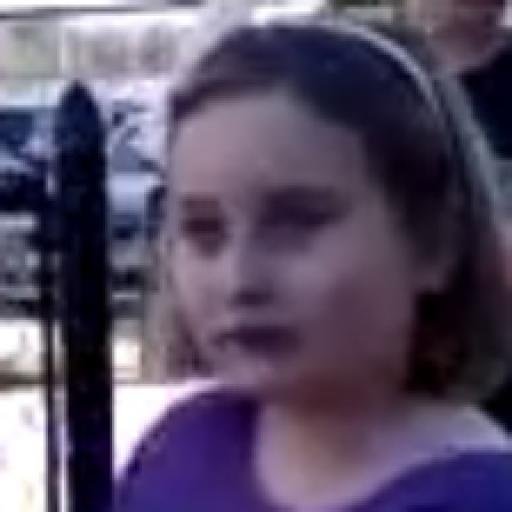Autism: (150, 34, 476, 436)
